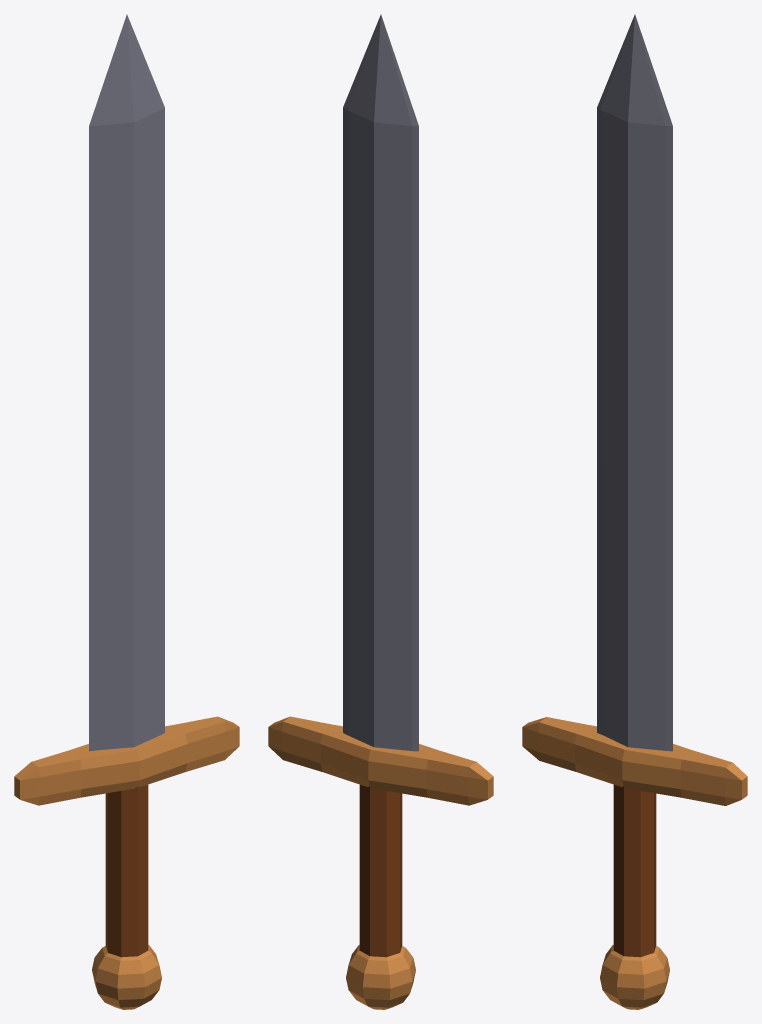
File: Sword.glb
The picture shows the model from 3 angles, left to right: view 1: azimuth 30°, elevation 25°; view 2: azimuth 150°, elevation 25°; view 3: azimuth 330°, elevation 25°; orthographic projection.
Parts seen in each view (by area): view 1: Sword; view 2: Sword; view 3: Sword.
Boxes of the visible parts, x1=… form: Sword: x1=14, y1=14, x2=239, y2=1009; Sword: x1=268, y1=14, x2=493, y2=1009; Sword: x1=522, y1=14, x2=747, y2=1009.
Size of the model in its own units: 0.2856 by 1.23 by 0.0819.
